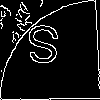S: (25, 25, 61, 73)
